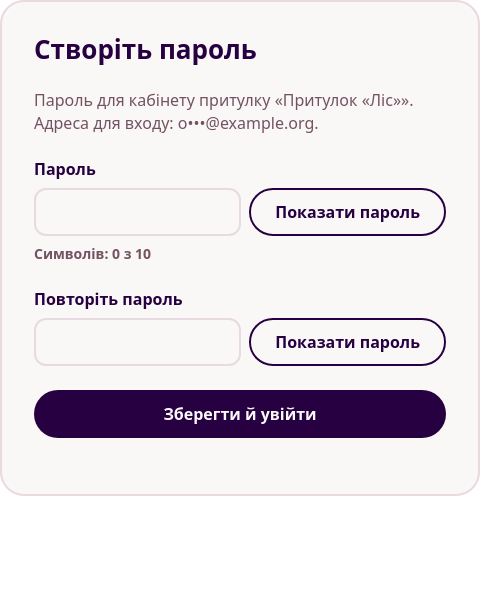
Scenario: «Створіть пароль» › a refused password: his sentence for the reason, on the field
Type "olena-ліс-2026-рік" into the password field labelled "Пароль". click: [138, 212]
box: [34, 188, 241, 236]
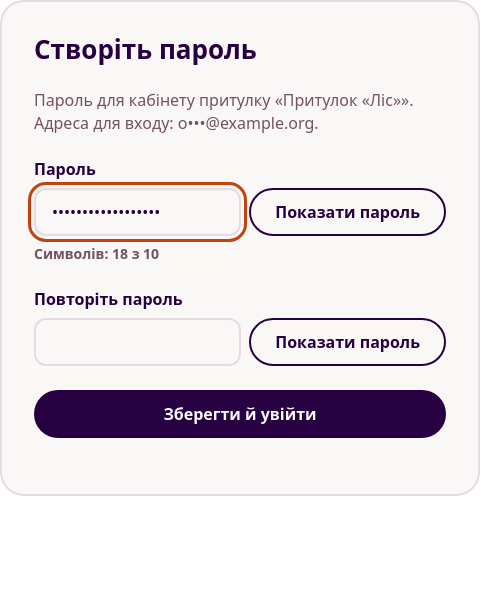
Type "olena-ліс-2026-рік" into the password field labelled "Повторіть пароль". click: [138, 342]
box: [34, 318, 241, 366]
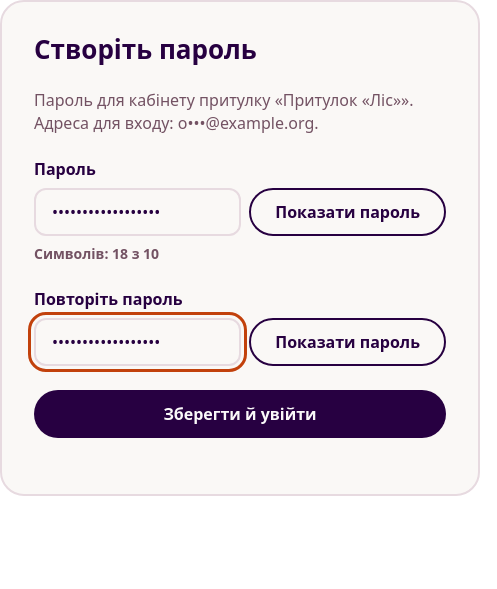
Click the button "Зберегти й увійти". click: [240, 414]
box: [34, 390, 446, 438]
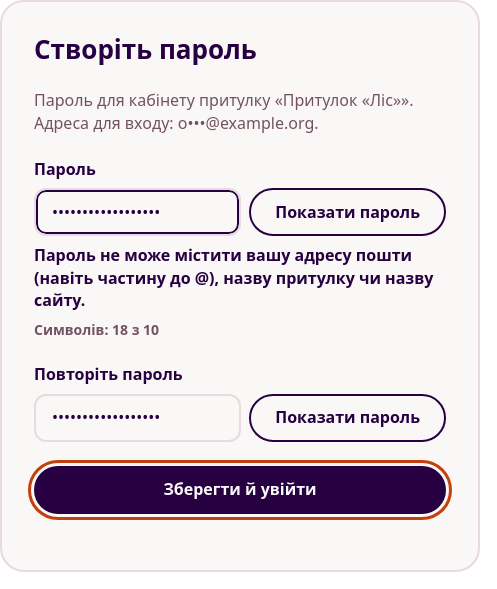
Expected: the text "Пароль не може містити вашу адресу пошти (навіть частину до @), назву притулку чи назву сайту." is shown, [34, 244, 433, 311]
